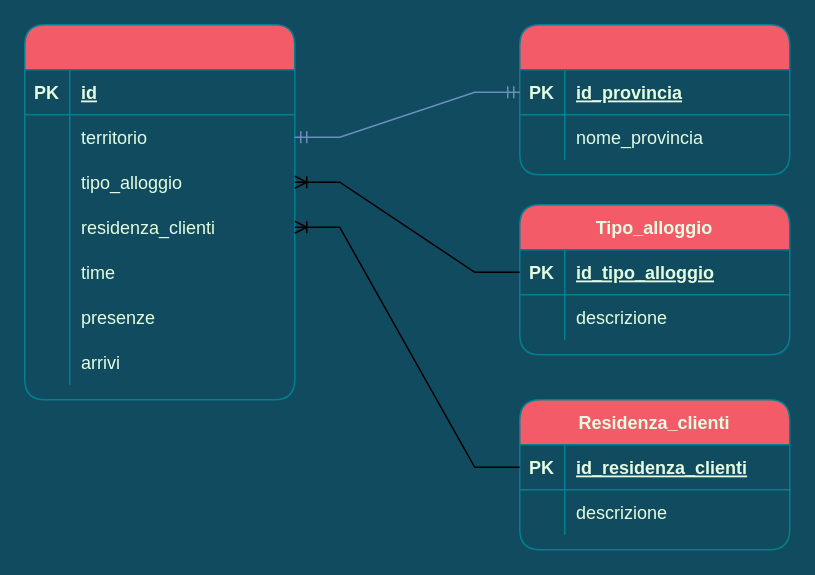
Some shapes in this 815 by 575 pixel diagram are drawn without their labels. Here are the shapes that lost their labels. From the top down, the box of each, then its label:
(518, 23, 790, 175): Province
(23, 23, 295, 400): Storico
